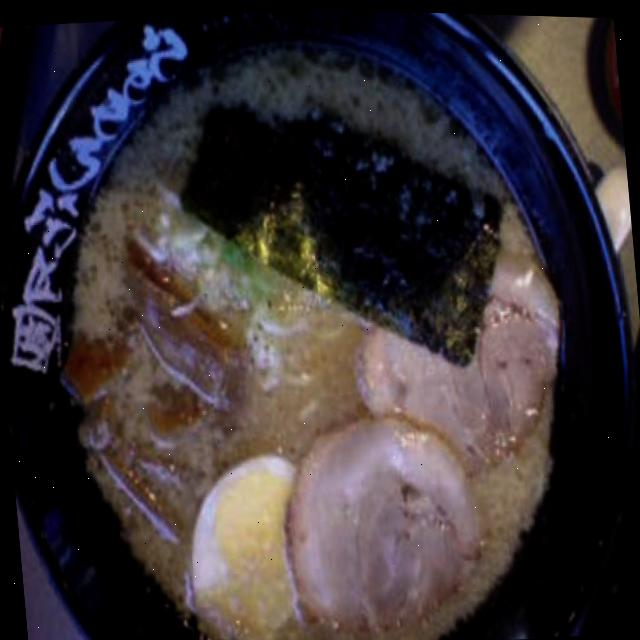面条主食: (16, 0, 605, 640)
